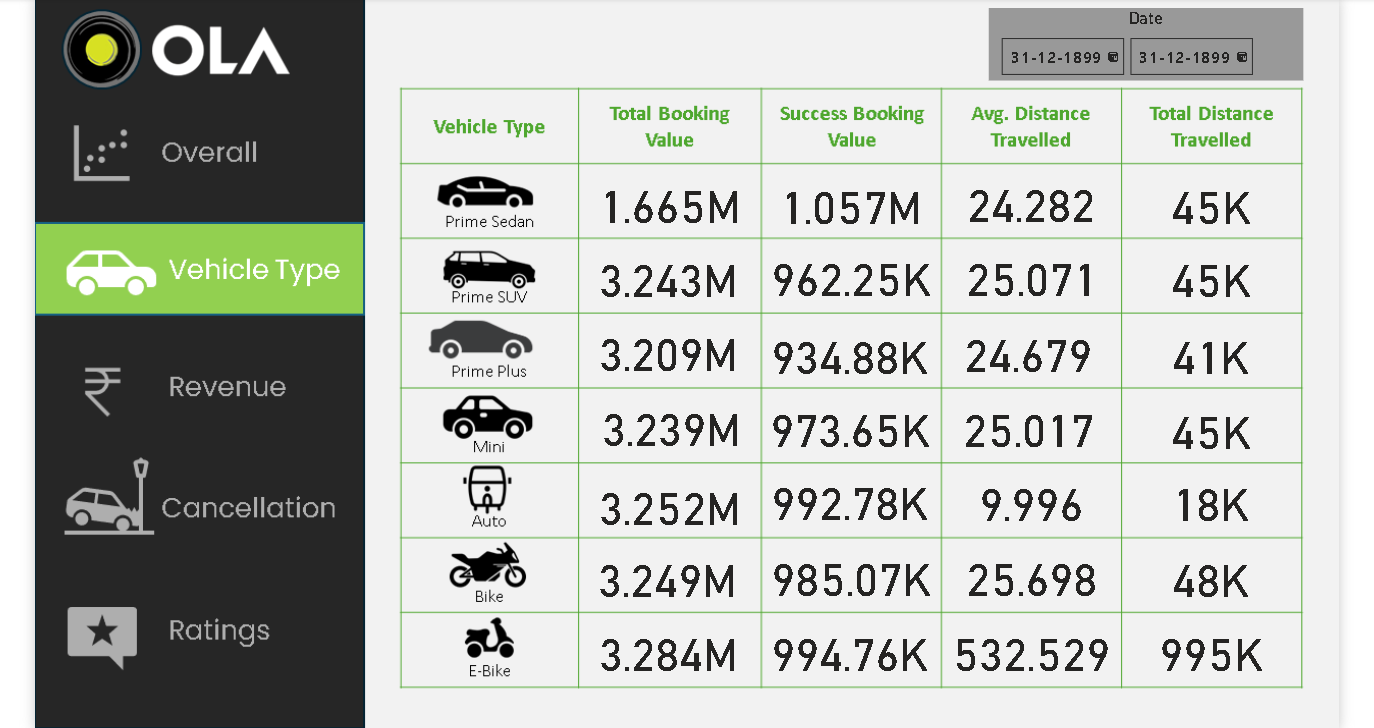

Layout of this report page (visuals, bound fields, positions):
{"tool":"powerbi","page":{"name":"Vehicle type","canvas":[1280,720],"ordinal":1},"visuals":[{"type":"actionButton","box":[0,336.2,322.7,88.3],"z":0},{"type":"actionButton","box":[0,446.6,322.7,88.3],"z":1000},{"type":"actionButton","box":[0,574.2,322.7,88.3],"z":2000},{"type":"actionButton","box":[0,111.7,322.7,89.6],"z":3000},{"type":"card","fields":{"Values":["Sum(July (2).Booking_Value)"]},"box":[533.7,163.2,179.1,74.8],"z":4000},{"type":"card","fields":{"Values":["Sum(July (2).Booking_Value)"]},"box":[532.4,236,179.8,75.5],"z":5000},{"type":"card","fields":{"Values":["Sum(July (2).Booking_Value)"]},"box":[532.4,307.4,179.8,75.5],"z":6000},{"type":"card","fields":{"Values":["Sum(July (2).Booking_Value)"]},"box":[535.2,381.5,179.8,75.5],"z":7000},{"type":"card","fields":{"Values":["Sum(July (2).Booking_Value)"]},"box":[533.8,458.3,179.8,75.5],"z":8000},{"type":"card","fields":{"Values":["Sum(July (2).Booking_Value)"]},"box":[531,529.7,179.8,75.5],"z":9000},{"type":"card","fields":{"Values":["Sum(July (2).Booking_Value)"]},"box":[532.4,602.4,179.8,75.5],"z":10000},{"type":"card","fields":{"Values":["Sum(July (2).Booking_Value)"]},"box":[712.2,163.3,179.8,75.5],"z":11000},{"type":"card","fields":{"Values":["Sum(July (2).Booking_Value)"]},"box":[712.2,234.6,179.8,75.5],"z":12000},{"type":"card","fields":{"Values":["Sum(July (2).Booking_Value)"]},"box":[710.8,310.1,179.8,75.5],"z":13000},{"type":"card","fields":{"Values":["Sum(July (2).Booking_Value)"]},"box":[710.8,382.8,179.8,75.5],"z":14000},{"type":"card","fields":{"Values":["Sum(July (2).Booking_Value)"]},"box":[710.8,454.2,179.8,75.5],"z":15000},{"type":"card","fields":{"Values":["Sum(July (2).Booking_Value)"]},"box":[712.2,528.3,179.8,75.5],"z":16000},{"type":"card","fields":{"Values":["Sum(July (2).Booking_Value)"]},"box":[710.8,602.4,179.8,75.5],"z":17000},{"type":"card","fields":{"Values":["Avg(July (2).Ride_Distance)"]},"box":[887.8,161.9,179.8,75.5],"z":18000},{"type":"card","fields":{"Values":["Avg(July (2).Ride_Distance)"]},"box":[887.8,234.6,179.8,75.5],"z":19000},{"type":"card","fields":{"Values":["Avg(July (2).Ride_Distance)"]},"box":[885.1,308.7,179.8,75.5],"z":20000},{"type":"card","fields":{"Values":["Avg(July (2).Ride_Distance)"]},"box":[886.5,382.8,179.8,75.5],"z":21000},{"type":"card","fields":{"Values":["Avg(July (2).Ride_Distance)"]},"box":[887.8,455.6,179.8,75.5],"z":22000},{"type":"card","fields":{"Values":["Avg(July (2).Ride_Distance)"]},"box":[887.8,528.3,179.8,75.5],"z":23000},{"type":"card","fields":{"Values":["Avg(July (2).Booking_Value)"]},"box":[887.8,602.4,179.8,75.5],"z":24000},{"type":"card","fields":{"Values":["Sum(July (2).Ride_Distance)"]},"box":[1064.8,163.3,179.8,75.5],"z":25000},{"type":"card","fields":{"Values":["Sum(July (2).Ride_Distance)"]},"box":[1064.8,236,179.8,75.5],"z":26000},{"type":"card","fields":{"Values":["Sum(July (2).Ride_Distance)"]},"box":[1064.8,310.1,179.8,75.5],"z":27000},{"type":"card","fields":{"Values":["Sum(July (2).Ride_Distance)"]},"box":[1064.8,384.2,179.8,75.5],"z":28000},{"type":"card","fields":{"Values":["Sum(July (2).Ride_Distance)"]},"box":[1064.8,455.6,179.8,75.5],"z":29000},{"type":"card","fields":{"Values":["Sum(July (2).Ride_Distance)"]},"box":[1064.8,529.7,179.8,75.5],"z":30000},{"type":"card","fields":{"Values":["Sum(July (2).Booking_Value)"]},"box":[1064.8,602.4,179.8,75.5],"z":31000},{"type":"slicer","title":"Date","fields":{"Values":["July (2).Time"]},"box":[935.9,9.6,308.7,71.4],"z":32000}]}

Visuals, with their boxes on the page's 1280x720 design canvas (x1, y1, x2, y2). These are canvas units, not pixel positions in the 1374x728 screenshot, which may show the page scaled, cropped or inside an application window:
actionButton: {"x1": 0, "y1": 336, "x2": 323, "y2": 424}
actionButton: {"x1": 0, "y1": 447, "x2": 323, "y2": 535}
actionButton: {"x1": 0, "y1": 574, "x2": 323, "y2": 662}
actionButton: {"x1": 0, "y1": 112, "x2": 323, "y2": 201}
card - Sum(July (2).Booking_Value): {"x1": 534, "y1": 163, "x2": 713, "y2": 238}
card - Sum(July (2).Booking_Value): {"x1": 532, "y1": 236, "x2": 712, "y2": 312}
card - Sum(July (2).Booking_Value): {"x1": 532, "y1": 307, "x2": 712, "y2": 383}
card - Sum(July (2).Booking_Value): {"x1": 535, "y1": 382, "x2": 715, "y2": 457}
card - Sum(July (2).Booking_Value): {"x1": 534, "y1": 458, "x2": 714, "y2": 534}
card - Sum(July (2).Booking_Value): {"x1": 531, "y1": 530, "x2": 711, "y2": 605}
card - Sum(July (2).Booking_Value): {"x1": 532, "y1": 602, "x2": 712, "y2": 678}
card - Sum(July (2).Booking_Value): {"x1": 712, "y1": 163, "x2": 892, "y2": 239}
card - Sum(July (2).Booking_Value): {"x1": 712, "y1": 235, "x2": 892, "y2": 310}
card - Sum(July (2).Booking_Value): {"x1": 711, "y1": 310, "x2": 891, "y2": 386}
card - Sum(July (2).Booking_Value): {"x1": 711, "y1": 383, "x2": 891, "y2": 458}
card - Sum(July (2).Booking_Value): {"x1": 711, "y1": 454, "x2": 891, "y2": 530}
card - Sum(July (2).Booking_Value): {"x1": 712, "y1": 528, "x2": 892, "y2": 604}
card - Sum(July (2).Booking_Value): {"x1": 711, "y1": 602, "x2": 891, "y2": 678}
card - Avg(July (2).Ride_Distance): {"x1": 888, "y1": 162, "x2": 1068, "y2": 237}
card - Avg(July (2).Ride_Distance): {"x1": 888, "y1": 235, "x2": 1068, "y2": 310}
card - Avg(July (2).Ride_Distance): {"x1": 885, "y1": 309, "x2": 1065, "y2": 384}
card - Avg(July (2).Ride_Distance): {"x1": 886, "y1": 383, "x2": 1066, "y2": 458}
card - Avg(July (2).Ride_Distance): {"x1": 888, "y1": 456, "x2": 1068, "y2": 531}
card - Avg(July (2).Ride_Distance): {"x1": 888, "y1": 528, "x2": 1068, "y2": 604}
card - Avg(July (2).Booking_Value): {"x1": 888, "y1": 602, "x2": 1068, "y2": 678}
card - Sum(July (2).Ride_Distance): {"x1": 1065, "y1": 163, "x2": 1245, "y2": 239}
card - Sum(July (2).Ride_Distance): {"x1": 1065, "y1": 236, "x2": 1245, "y2": 312}
card - Sum(July (2).Ride_Distance): {"x1": 1065, "y1": 310, "x2": 1245, "y2": 386}
card - Sum(July (2).Ride_Distance): {"x1": 1065, "y1": 384, "x2": 1245, "y2": 460}
card - Sum(July (2).Ride_Distance): {"x1": 1065, "y1": 456, "x2": 1245, "y2": 531}
card - Sum(July (2).Ride_Distance): {"x1": 1065, "y1": 530, "x2": 1245, "y2": 605}
card - Sum(July (2).Booking_Value): {"x1": 1065, "y1": 602, "x2": 1245, "y2": 678}
"Date" slicer: {"x1": 936, "y1": 10, "x2": 1245, "y2": 81}
